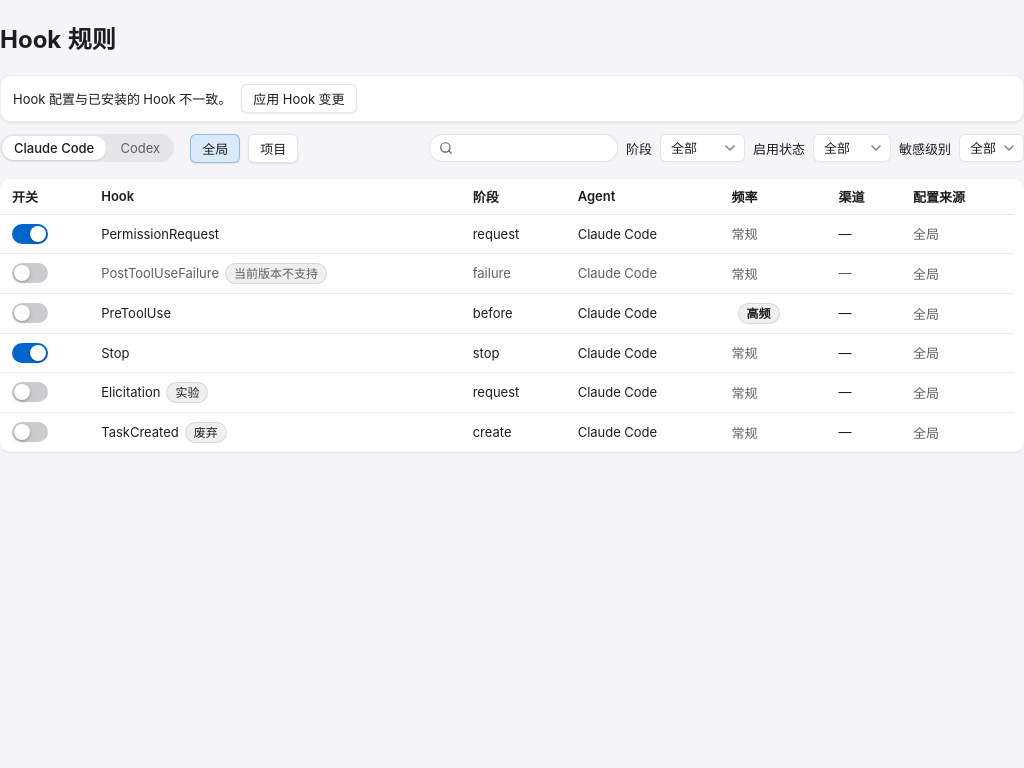
it: rule selection drift requires one explicit Hook apply action
The width and height of the screenshot is (1024, 768).
Click the button "应用 Hook 变更": (299, 98) [241,84,357,113]
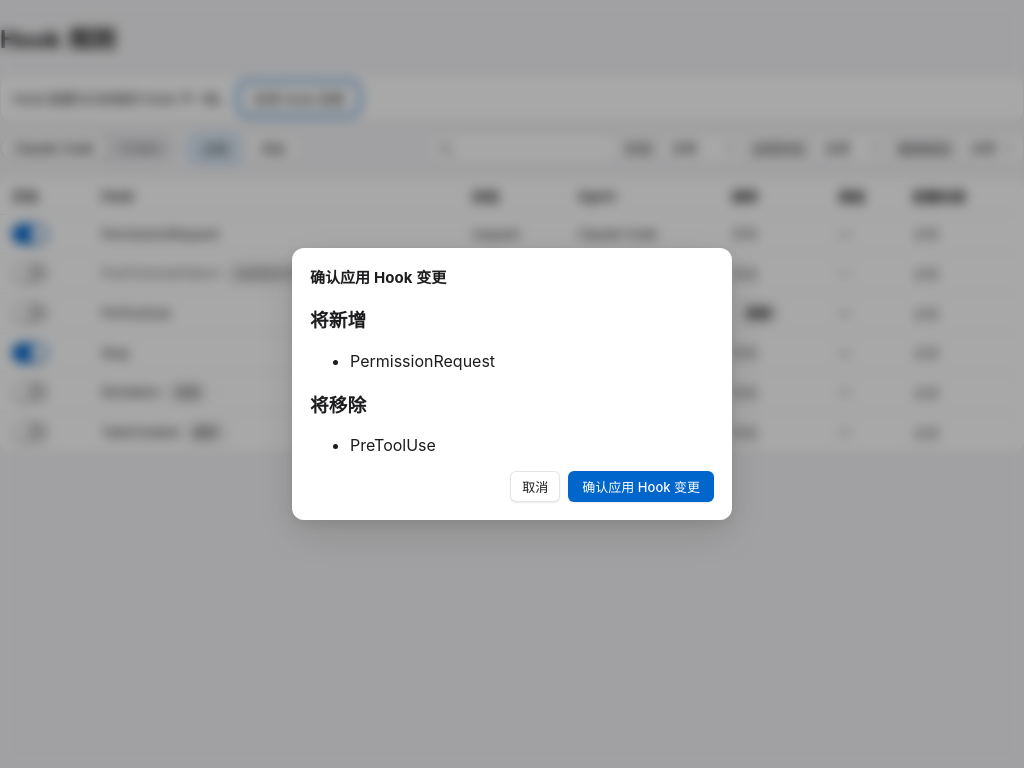
Now the list item "PermissionRequest" is shown, box [350,351,495,371]
Now the list item "PreToolUse" is shown, box [350,435,436,455]
Now the button "确认应用 Hook 变更" is shown
Click the button "确认应用 Hook 变更": (641, 487) [568,471,714,502]
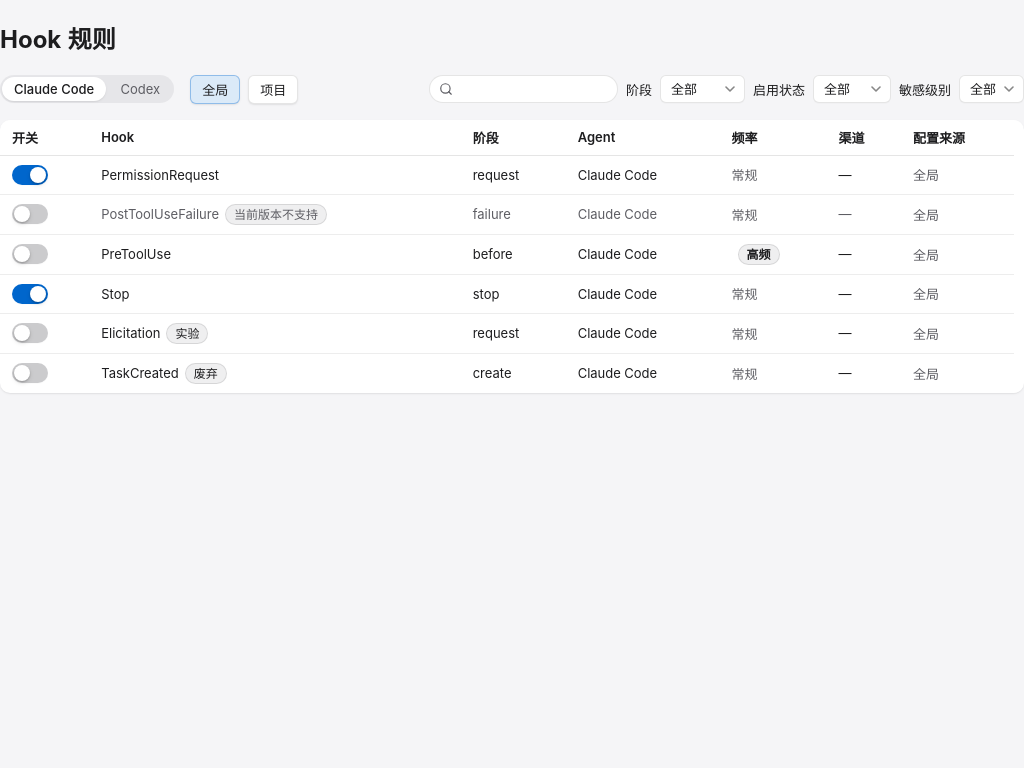
Now the button "应用 Hook 变更" is gone
